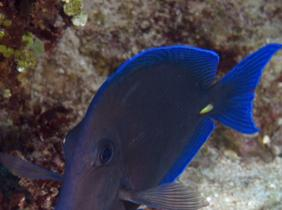Acanthuridae -Surgeonfishes-: (0, 41, 282, 210)
